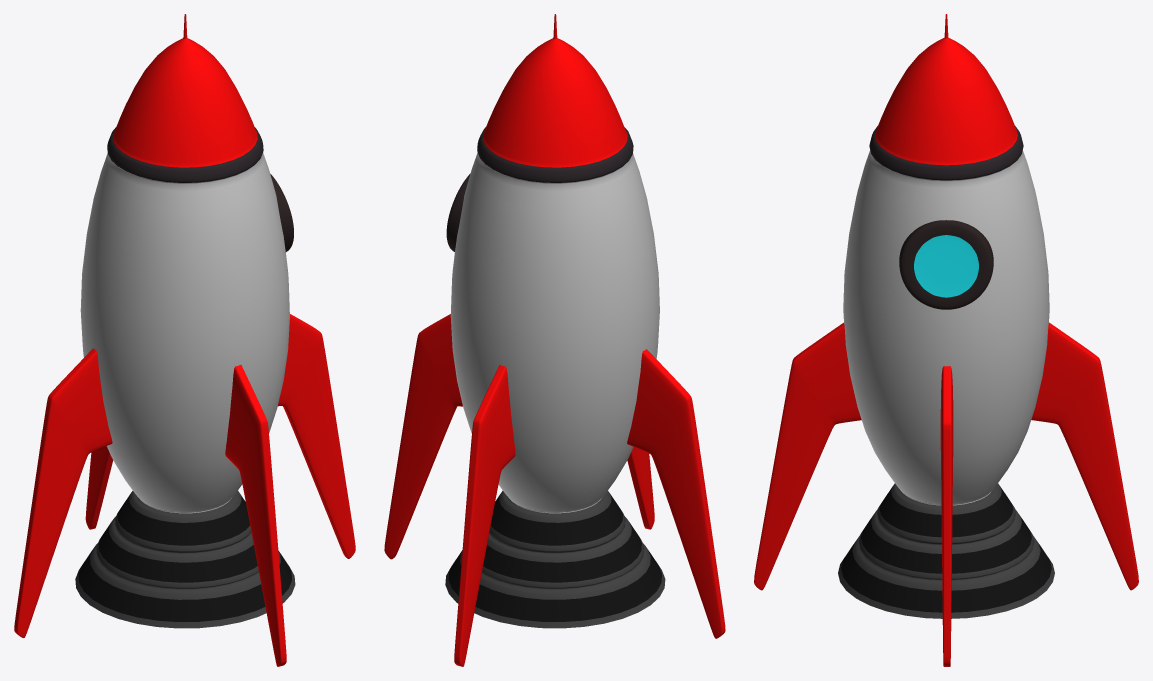
File: rocket.obj
3 views of the same model, side by side, from view 1: azimuth 30°, elevation 25°; view 2: azimuth 150°, elevation 25°; view 3: azimuth 270°, elevation 25° (orthographic).
Visible parts, largest first — view 1: Sphere, Plane.002, Plane, Plane.003, Plane.001, Cylinder_Cylinder.001; view 2: Sphere, Plane.002, Plane, Plane.001, Plane.003, Cylinder_Cylinder.001; view 3: Sphere, Plane.003, Plane.001, Cylinder_Cylinder.001, Plane.
Boxes of the visible parts, <box> form: Sphere: <box>75,14,295,628</box>; Plane.002: <box>14,348,112,637</box>; Plane: <box>278,314,355,558</box>; Plane.003: <box>225,365,286,666</box>; Plane.001: <box>85,446,113,529</box>; Cylinder_Cylinder.001: <box>270,174,293,251</box>; Sphere: <box>445,14,665,628</box>; Plane.002: <box>627,349,725,638</box>; Plane: <box>384,314,462,559</box>; Plane.001: <box>454,365,515,666</box>; Plane.003: <box>627,447,654,529</box>; Cylinder_Cylinder.001: <box>446,173,470,251</box>; Sphere: <box>838,14,1054,618</box>; Plane.003: <box>754,322,861,590</box>; Plane.001: <box>1031,322,1138,590</box>; Cylinder_Cylinder.001: <box>899,220,993,309</box>; Plane: <box>940,366,953,666</box>.
Bounding box in the file's own units: 6.86 × 11.31 × 6.86.
